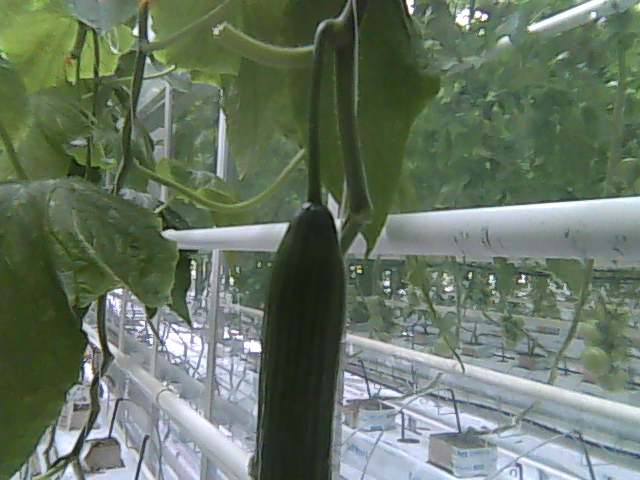concombre: (252, 198, 351, 480)
